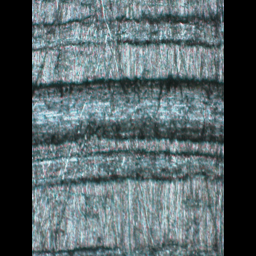d: (32, 74, 223, 187), (32, 4, 223, 53)
